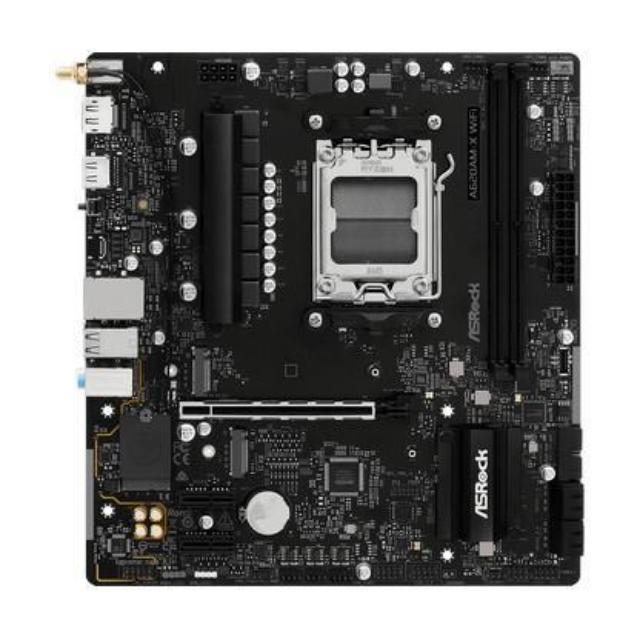Mainboard: (62, 36, 590, 604)
